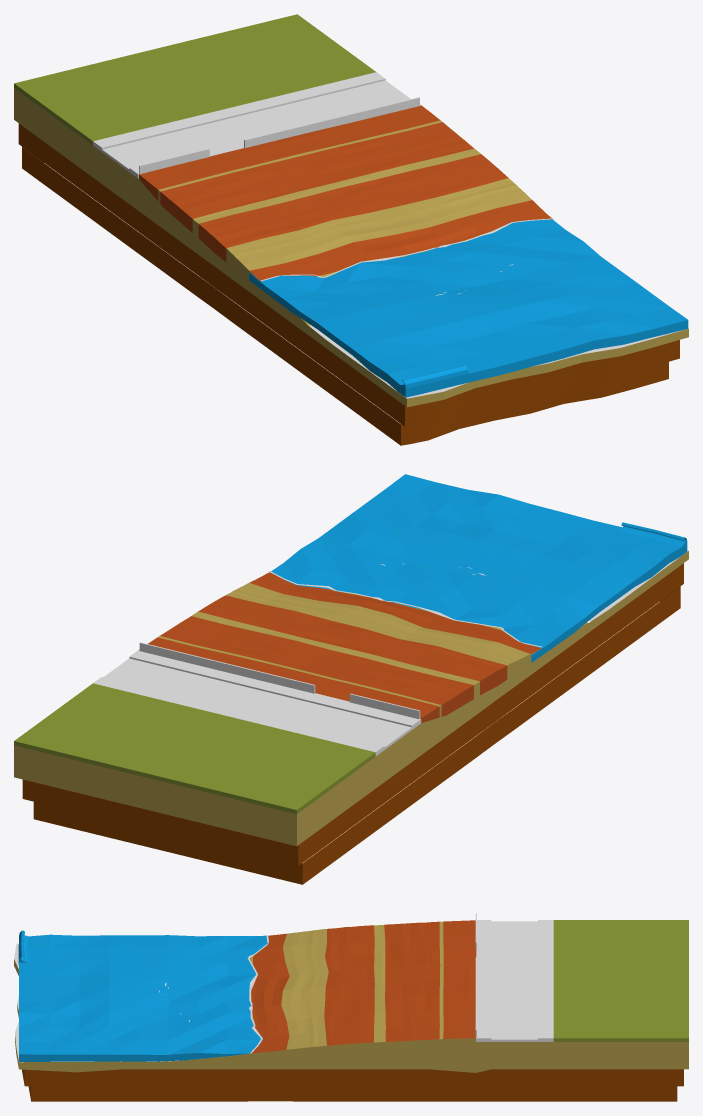
Rendered from world-baywatch.fbx.
3 renders of one model, top to bottom at view 1: azimuth 30°, elevation 25°; view 2: azimuth 150°, elevation 25°; view 3: azimuth 270°, elevation 25°, orthographic. The views are drawn at different scales.
Parts seen in each view (by area): view 1: world-baywatch, baywatch-sea, world-baywatch-ground; view 2: world-baywatch, baywatch-sea, world-baywatch-ground; view 3: world-baywatch, baywatch-sea, world-baywatch-ground.
Boxes of the visible parts, x1=… form: world-baywatch: x1=14, y1=14, x2=688, y2=407; baywatch-sea: x1=249, y1=218, x2=688, y2=397; world-baywatch-ground: x1=18, y1=123, x2=679, y2=445; world-baywatch: x1=14, y1=550, x2=688, y2=846; baywatch-sea: x1=269, y1=474, x2=687, y2=662; world-baywatch-ground: x1=22, y1=563, x2=683, y2=884; world-baywatch: x1=14, y1=913, x2=688, y2=1072; baywatch-sea: x1=18, y1=930, x2=268, y2=1061; world-baywatch-ground: x1=22, y1=1069, x2=683, y2=1101.
Size of the model in its own units: 36.07 by 86.78 by 10.74.
